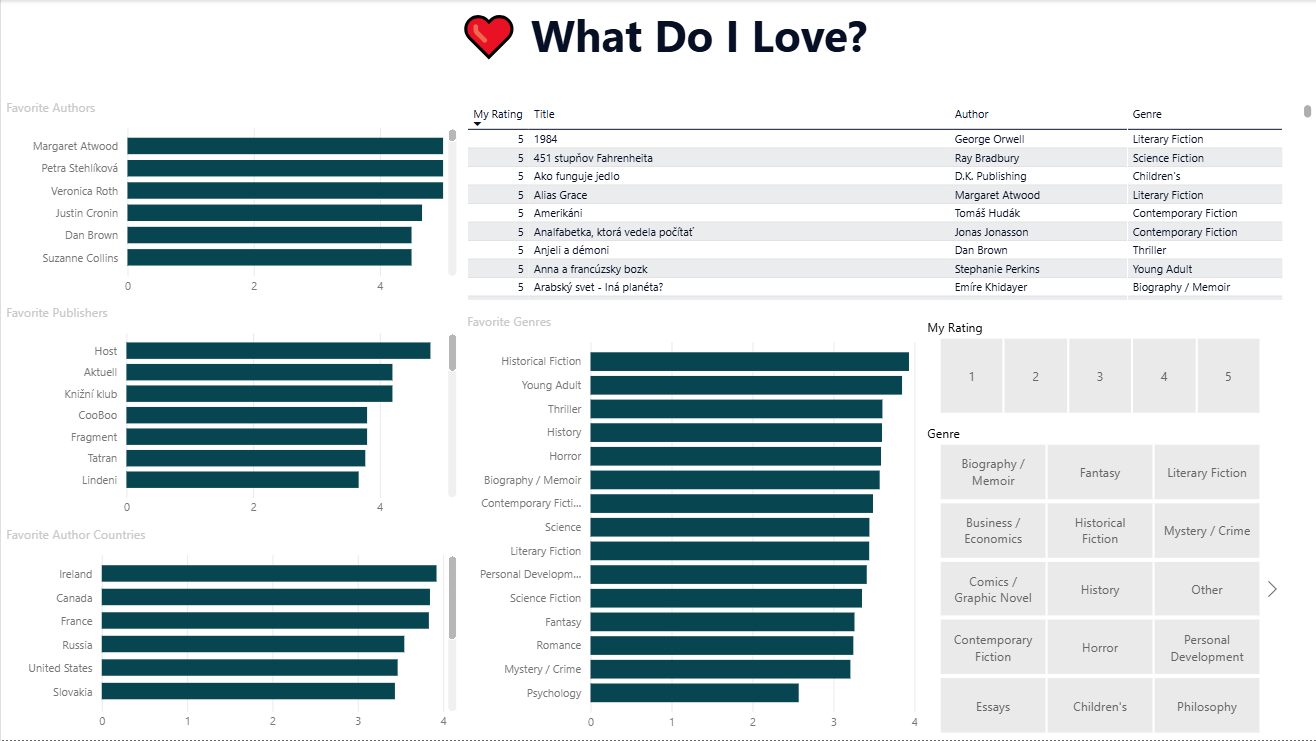

The dashboard page shown, as its layout file describes it:
{"tool":"powerbi","page":{"name":"What Do I Love?","canvas":[1280,720],"ordinal":2},"visuals":[{"type":"textbox","box":[8,0,1272,96],"z":0},{"type":"clusteredBarChart","title":"Favorite Genres","fields":{"Category":["FactBooks.Genre"],"Y":["FactBooks.Average Rating"]},"box":[448,304,448,416],"z":1000},{"type":"clusteredBarChart","title":"Favorite Authors","fields":{"Category":["FactBooks.Author"],"Y":["FactBooks.Average Rating"]},"box":[0,96,448,200],"z":2000},{"type":"clusteredBarChart","title":"Favorite Author Countries","fields":{"Category":["FactBooks.Author Country"],"Y":["FactBooks.Average Rating"]},"box":[0,512,448,208],"z":3000},{"type":"clusteredBarChart","title":"Favorite Publishers","fields":{"Category":["FactBooks.Publisher"],"Y":["FactBooks.Average Rating"]},"box":[0,296,448,216],"z":4000},{"type":"tableEx","fields":{"Values":["FactBooks.My Rating","FactBooks.Title","FactBooks.Author","FactBooks.Genre"]},"box":[448,96,832,200],"z":5000},{"type":"slicer","fields":{"Values":["FactBooks.Genre"]},"box":[888,408,360,312],"z":6000},{"type":"slicer","fields":{"Values":["FactBooks.My Rating"]},"box":[888,304,360,104],"z":7000}]}

Visuals, with their boxes in screenshot pixels (x1, y1, x2, y2), scaled from the page's 1280x720 canvas onto the 1316x741 screenshot:
textbox: region(8, 0, 1315, 99)
"Favorite Genres" clusteredBarChart: region(461, 313, 921, 740)
"Favorite Authors" clusteredBarChart: region(0, 99, 461, 305)
"Favorite Author Countries" clusteredBarChart: region(0, 527, 461, 740)
"Favorite Publishers" clusteredBarChart: region(0, 305, 461, 527)
tableEx - FactBooks.My Rating x FactBooks.Title: region(461, 99, 1315, 305)
slicer - FactBooks.Genre: region(913, 420, 1283, 740)
slicer - FactBooks.My Rating: region(913, 313, 1283, 420)
